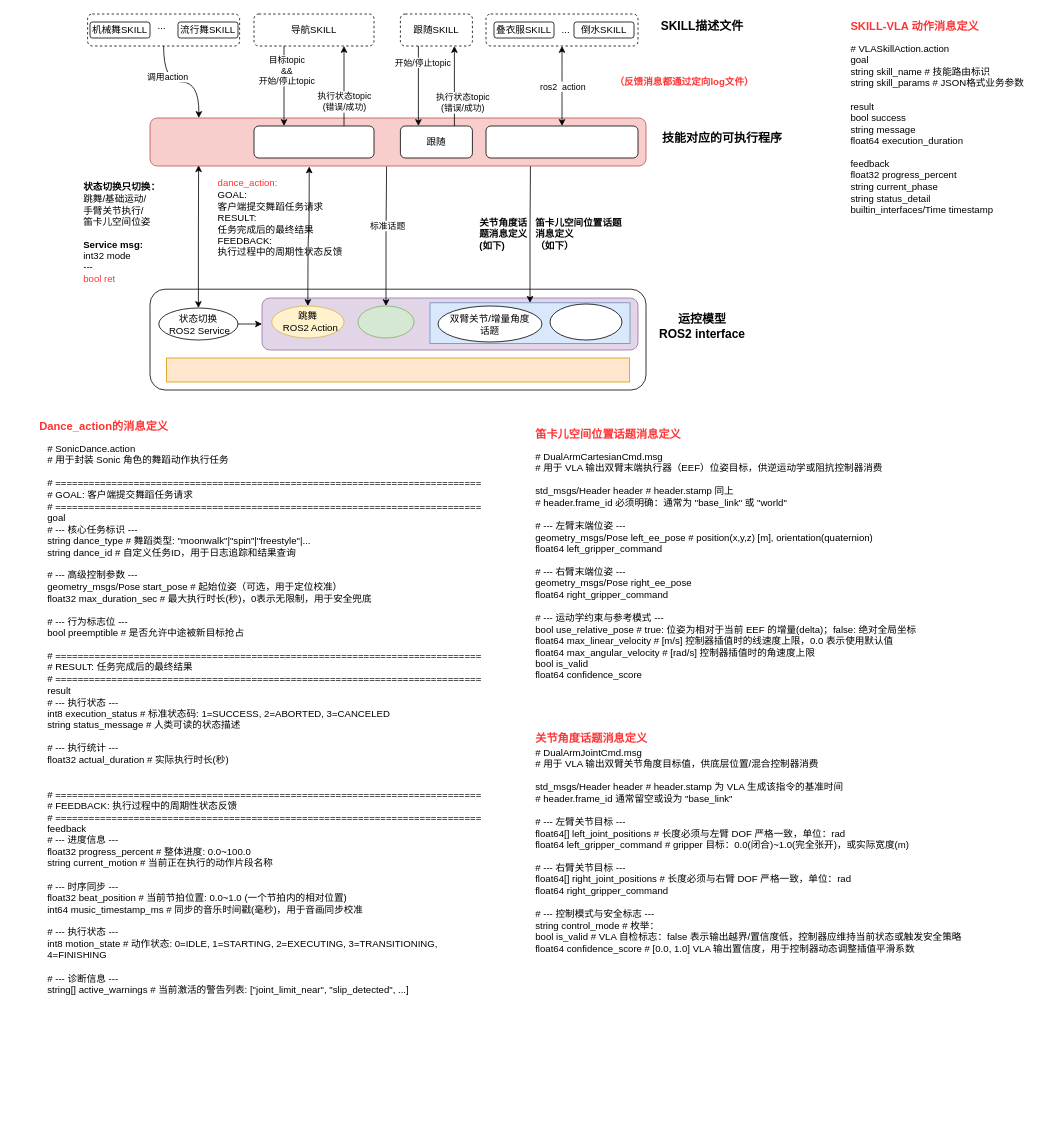
Some shapes in this 1062 by 1124 pixel diagram are drawn without their labels. The box of each missing label's shape, as (x1, y1, x2, y2) in pixels:
cmd_vel 话题: (357, 305, 414, 338)
VLA/WAM/VA: (485, 125, 638, 158)
导航: (253, 125, 374, 158)
笛卡儿空间位姿: (549, 303, 622, 340)
运动控制模型（SONIC/...): (166, 357, 630, 382)
